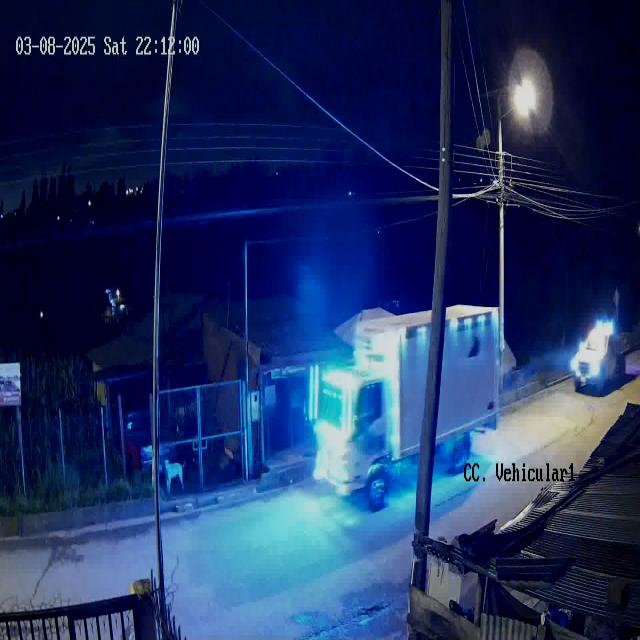TRUCK: (312, 304, 501, 512)
